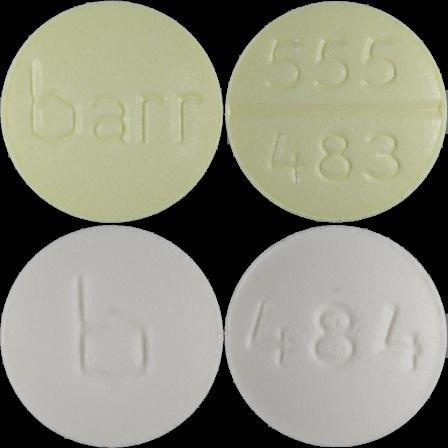0555-0483: (0, 0, 224, 224)
